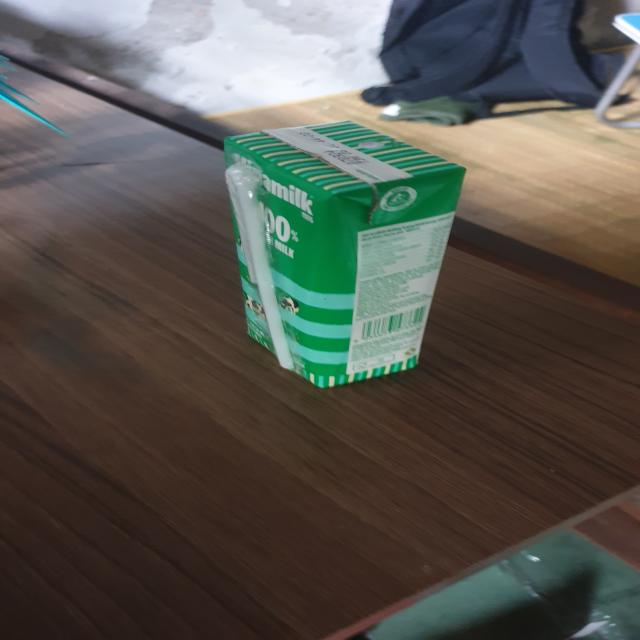Vina: (224, 125, 467, 390)
